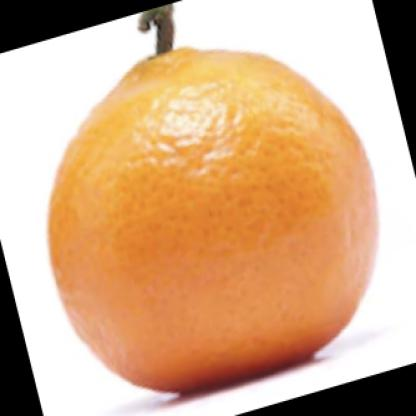orange: (44, 42, 376, 392)
